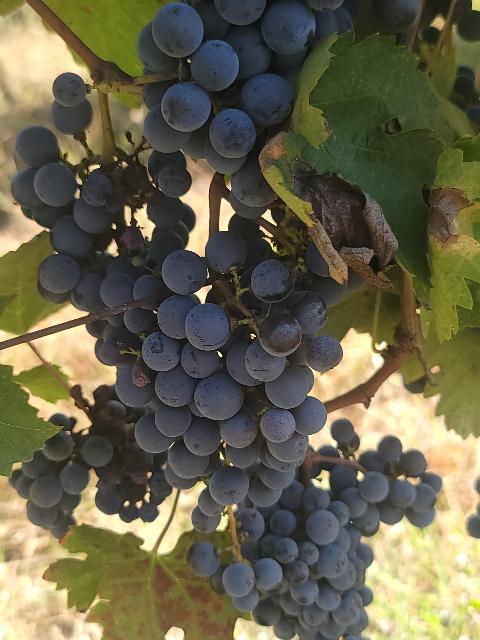grapes: (139, 231, 328, 489), (190, 445, 439, 640), (138, 0, 421, 158), (12, 135, 195, 365), (14, 399, 165, 538), (235, 181, 275, 205), (112, 325, 125, 330)
